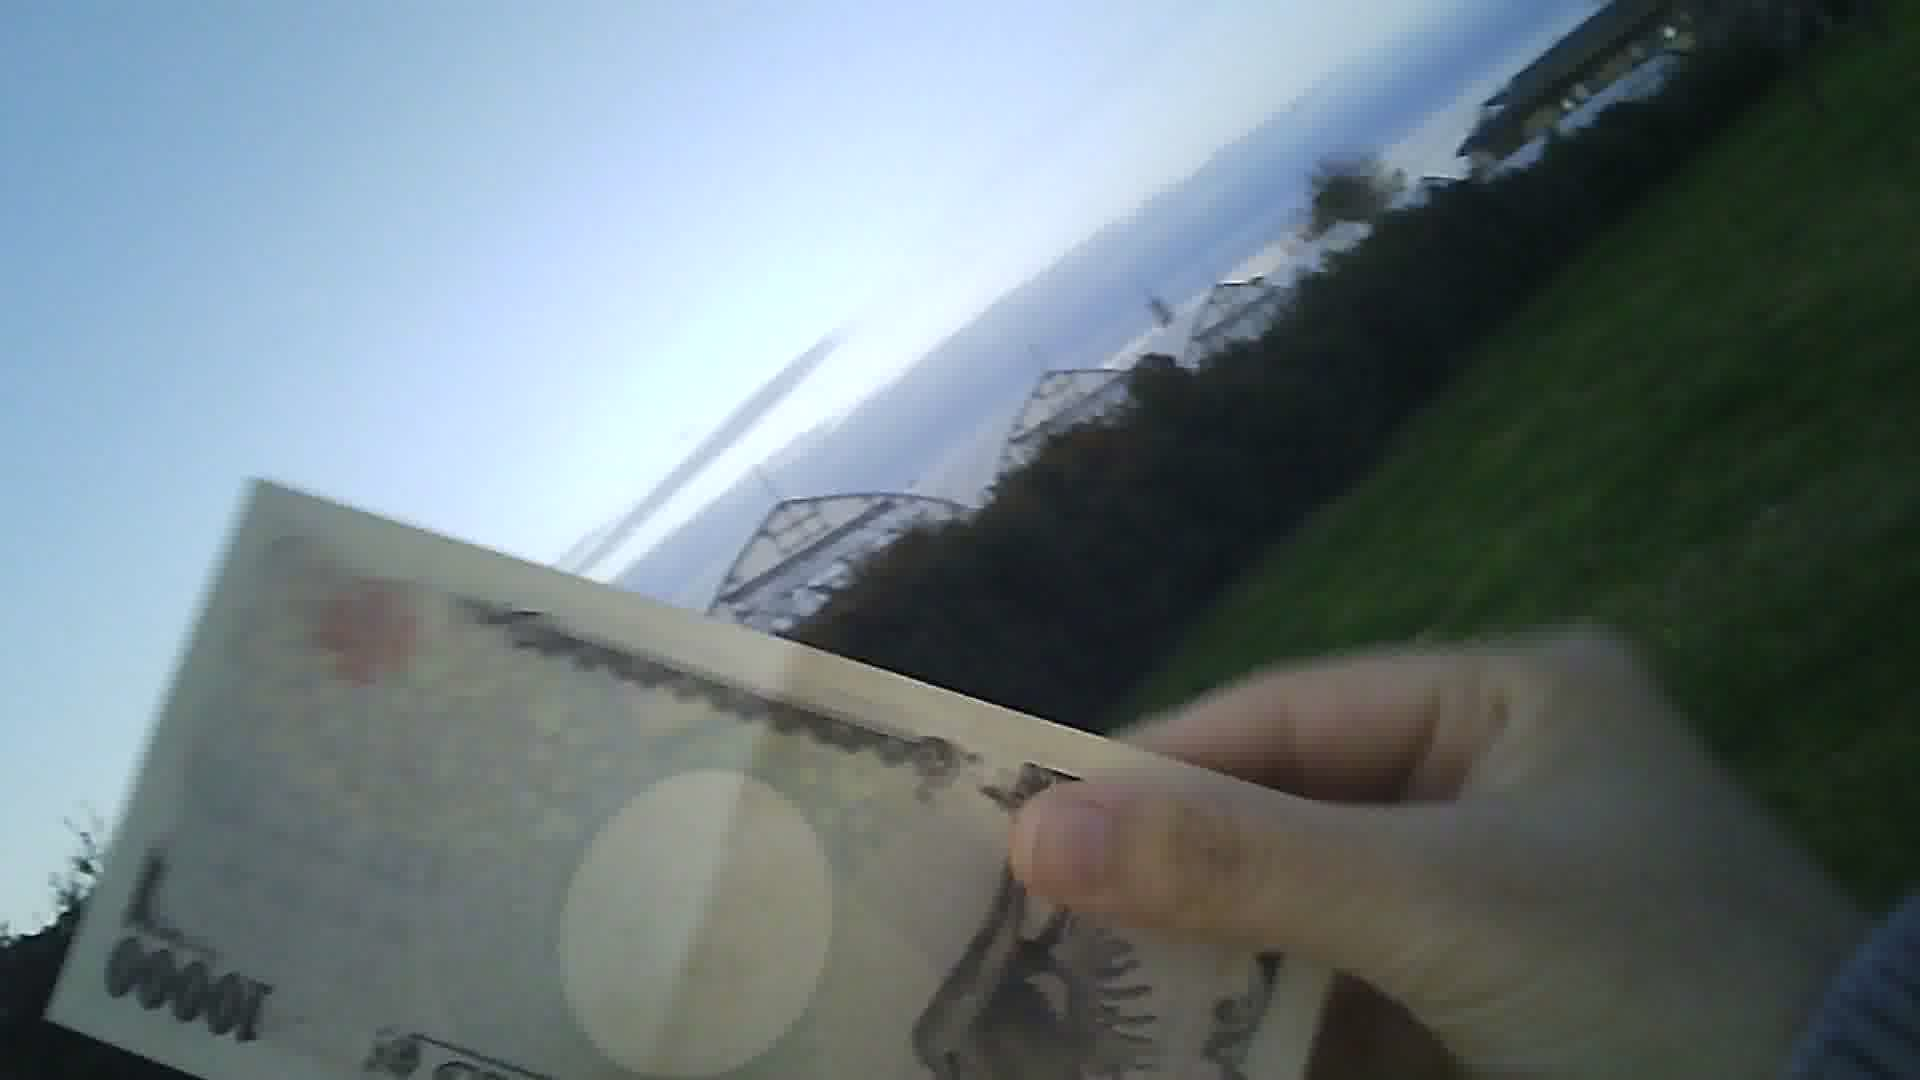10,000 Yen: (51, 451, 1298, 1079)
